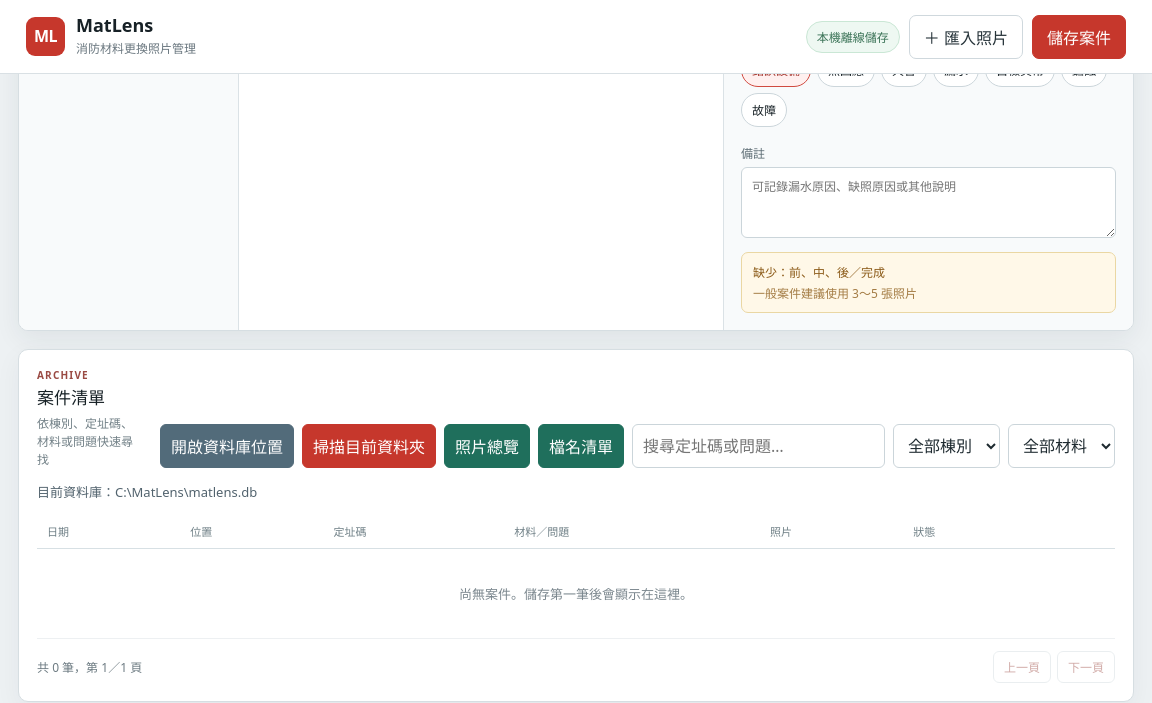
Test: 照片拖放 › 清冊顯示目前資料庫並可開啟位置，失敗時顯示原因
The image size is (1152, 703).
(page scrolled)
Expected: the text "目前資料庫：C:\\MatLens\\matlens.db" is shown, [37,483,257,501]
Step 1. Click the button "開啟資料庫位置" → (227, 446), box [160,424,294,468]
(page scrolled)
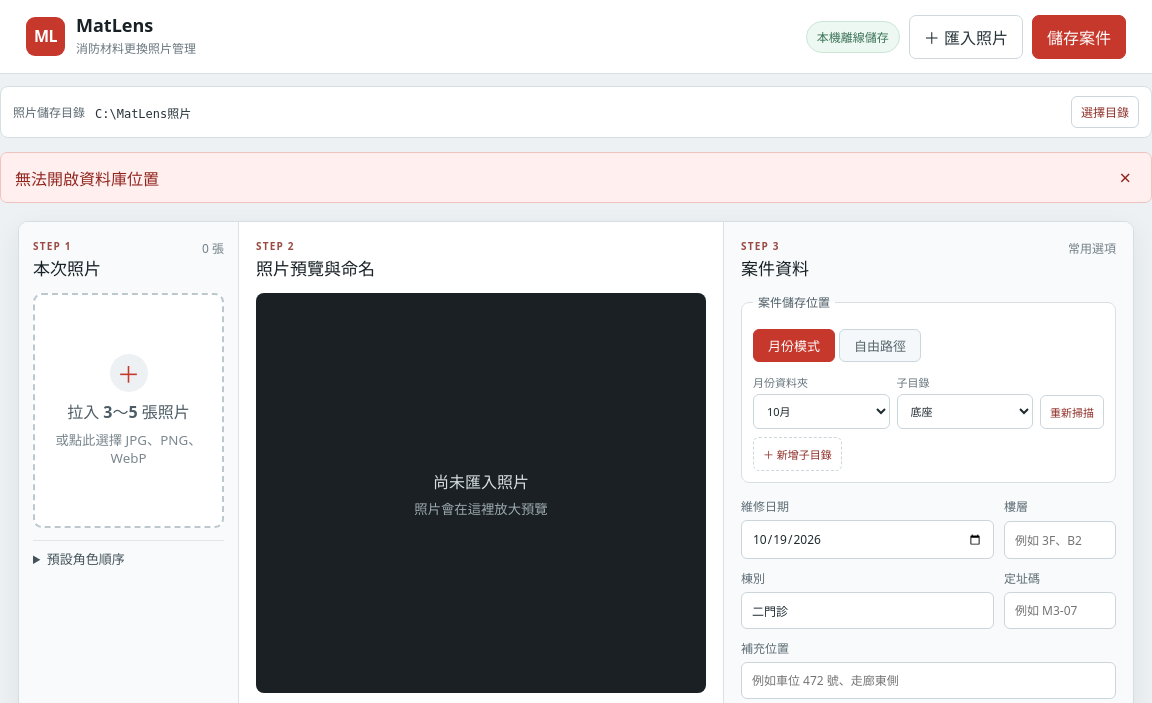
Result: the text "無法開啟資料庫位置" is shown at [15,166,159,190]
